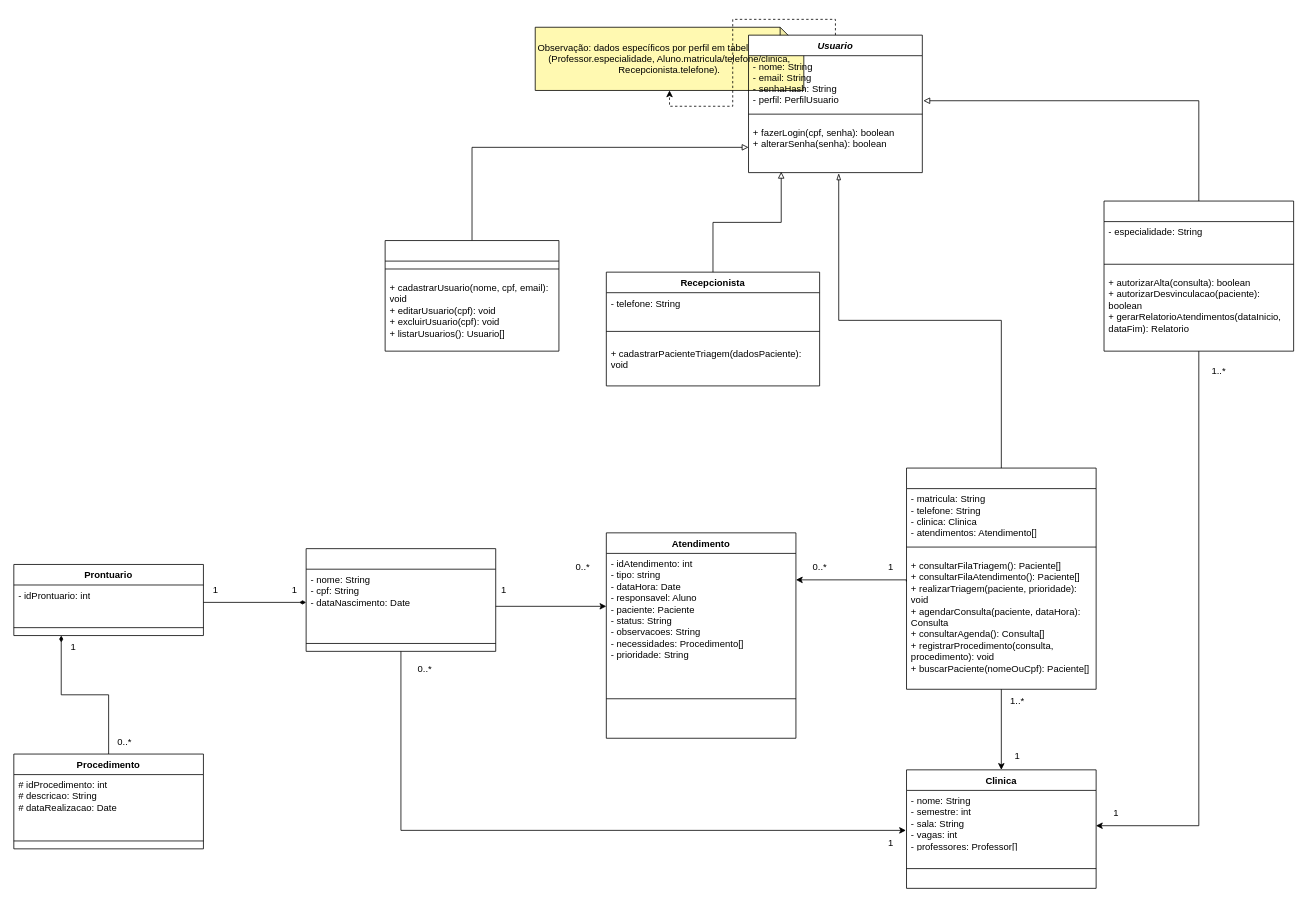
This 1307x902 diagram has some shape labels left out. The shapes that lost their labels are listed below. From the top down, each one's box as (x1, y1, x2, y2) in pixels, then its label:
(384, 240, 559, 351): Administrador
(1103, 200, 1294, 351): Professor
(906, 467, 1096, 689): Aluno
(305, 548, 496, 651): Paciente
